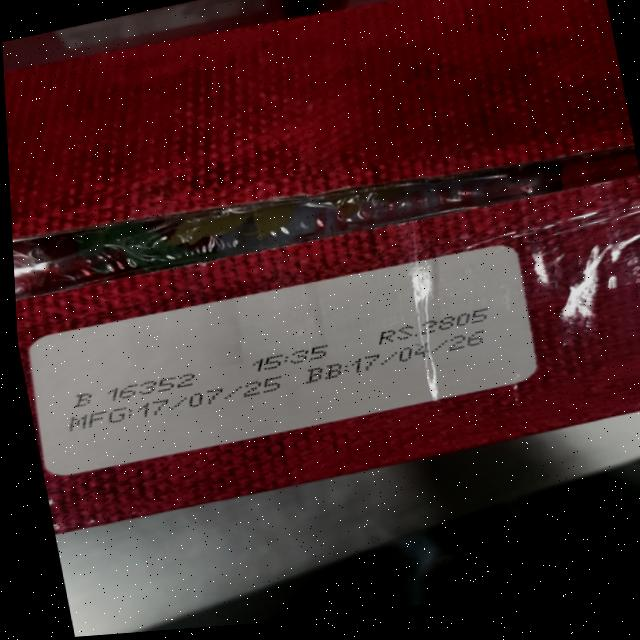BB: (304, 328, 495, 385)
Batch: (67, 365, 204, 415)
MFG: (66, 373, 283, 435)
RS: (376, 307, 494, 346)
TimeStamp: (249, 342, 334, 373)
